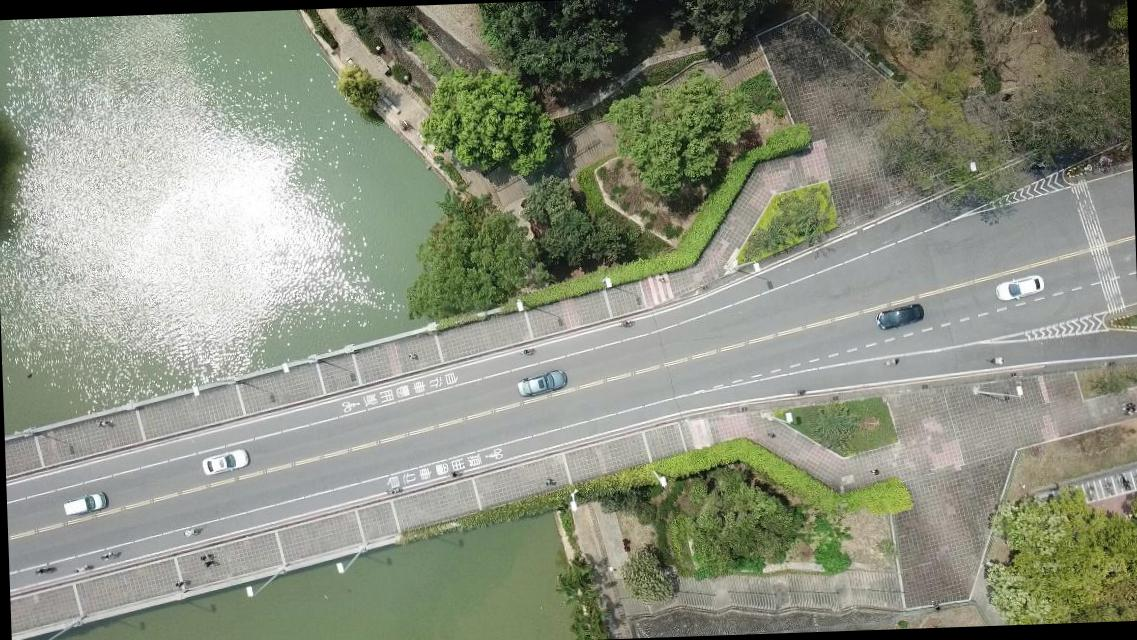vehicle: (516, 367, 568, 398), (876, 302, 926, 332), (200, 447, 250, 476), (995, 273, 1044, 301), (62, 490, 106, 516)
